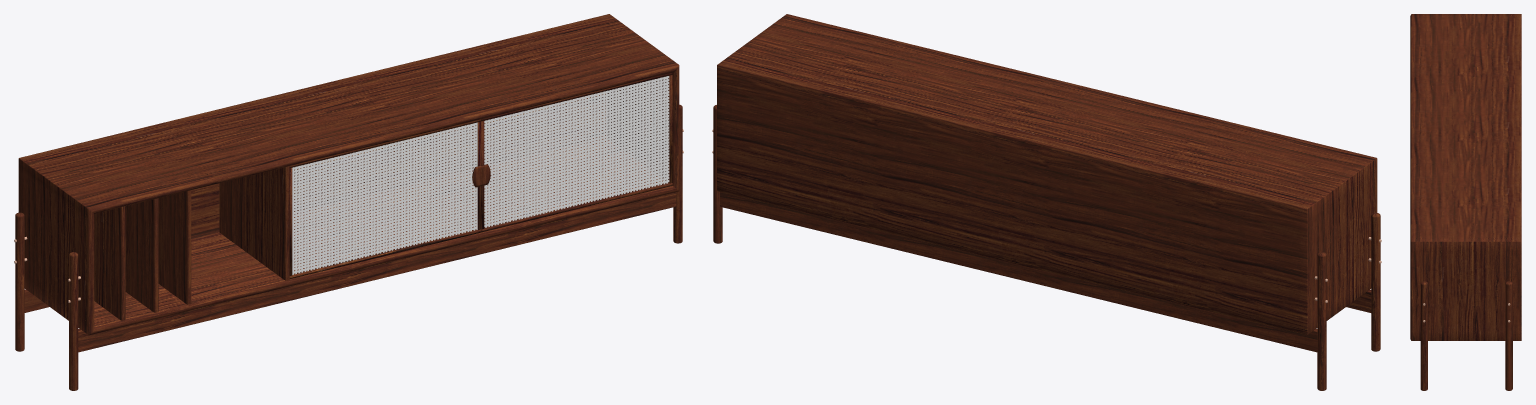
Rendered from rak1.glb.
3 renders of one model, left to right at view 1: azimuth 30°, elevation 25°; view 2: azimuth 150°, elevation 25°; view 3: azimuth 270°, elevation 25°, orthographic. The views are drawn at different scales.
Parts seen in each view (by area): view 1: body, Plane.002, Plane.004, Plane, Plane.003; view 2: body; view 3: body.
Boxes of the visible parts, bbox=[...] form: body: bbox=[14, 14, 683, 390]; Plane.002: bbox=[292, 122, 477, 274]; Plane.004: bbox=[484, 76, 669, 227]; Plane: bbox=[289, 119, 481, 278]; Plane.003: bbox=[481, 72, 672, 232]; body: bbox=[712, 14, 1381, 390]; body: bbox=[1410, 14, 1521, 390].
Bounding box in the file's own units: 2.29 × 0.6567 × 0.4557.
3 materials, 1 textured.
